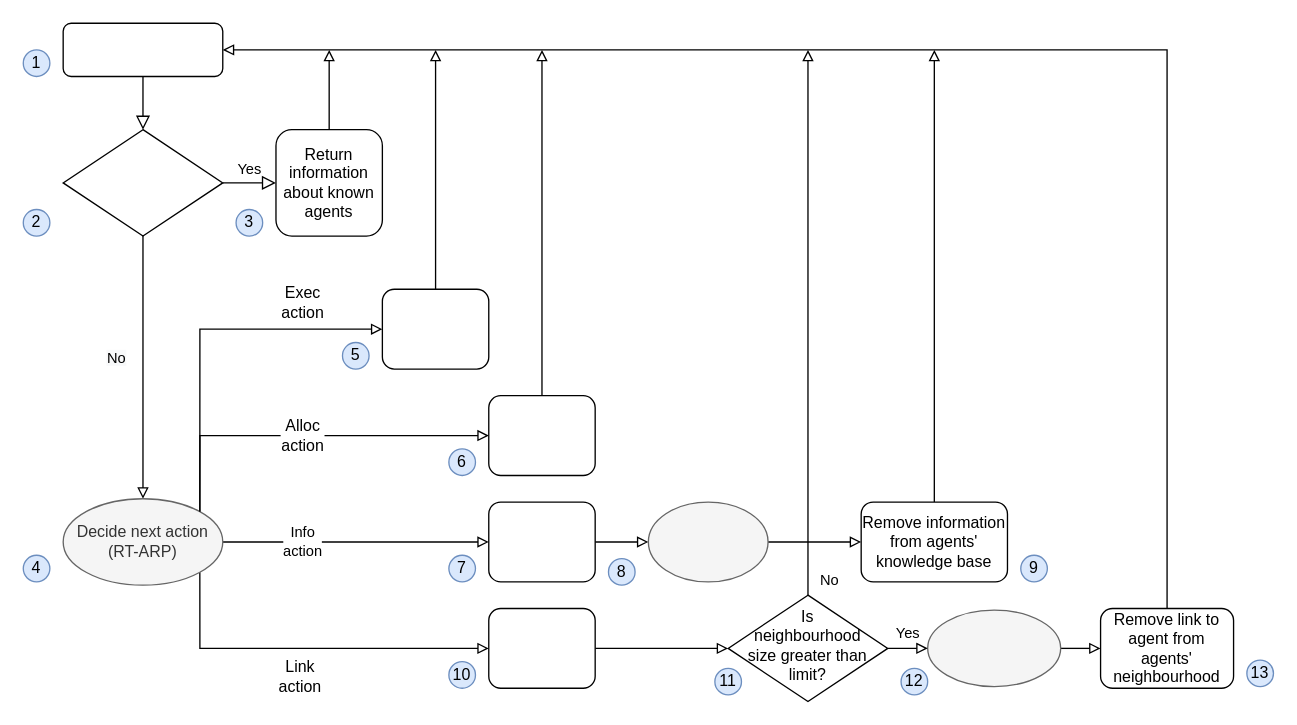
Image size: 1297x725. Some labels were removed from this diagram. Here are the shapes that lost their labels. From the top down, the centre of each, then its label:
the point at 142,49: Retrieve tasks allocated to g
the point at 142,182: Task is a request for information?
the point at 435,328: Execute the atomic task
the point at 541,434: Allocate the task to another agent
the point at 541,541: Request information from another agent
the point at 707,541: Decide info to remove (SAS-KR)
the point at 541,647: Link another agent into neighbourhood
the point at 993,648: Decide agent to remove (N-prune)
